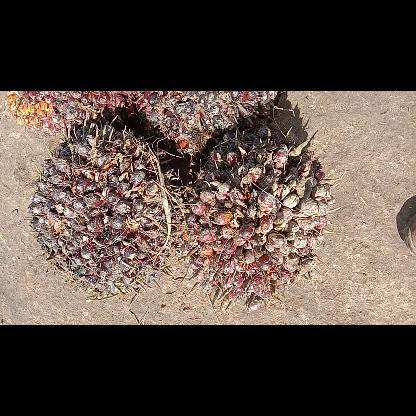Kurang masak: (185, 130, 343, 310), (26, 124, 180, 296), (130, 92, 280, 154), (0, 92, 138, 136)
